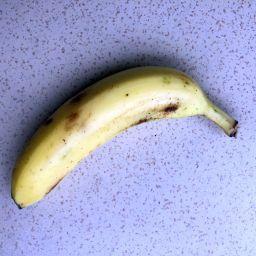Banana Ripe: (8, 60, 232, 208)
